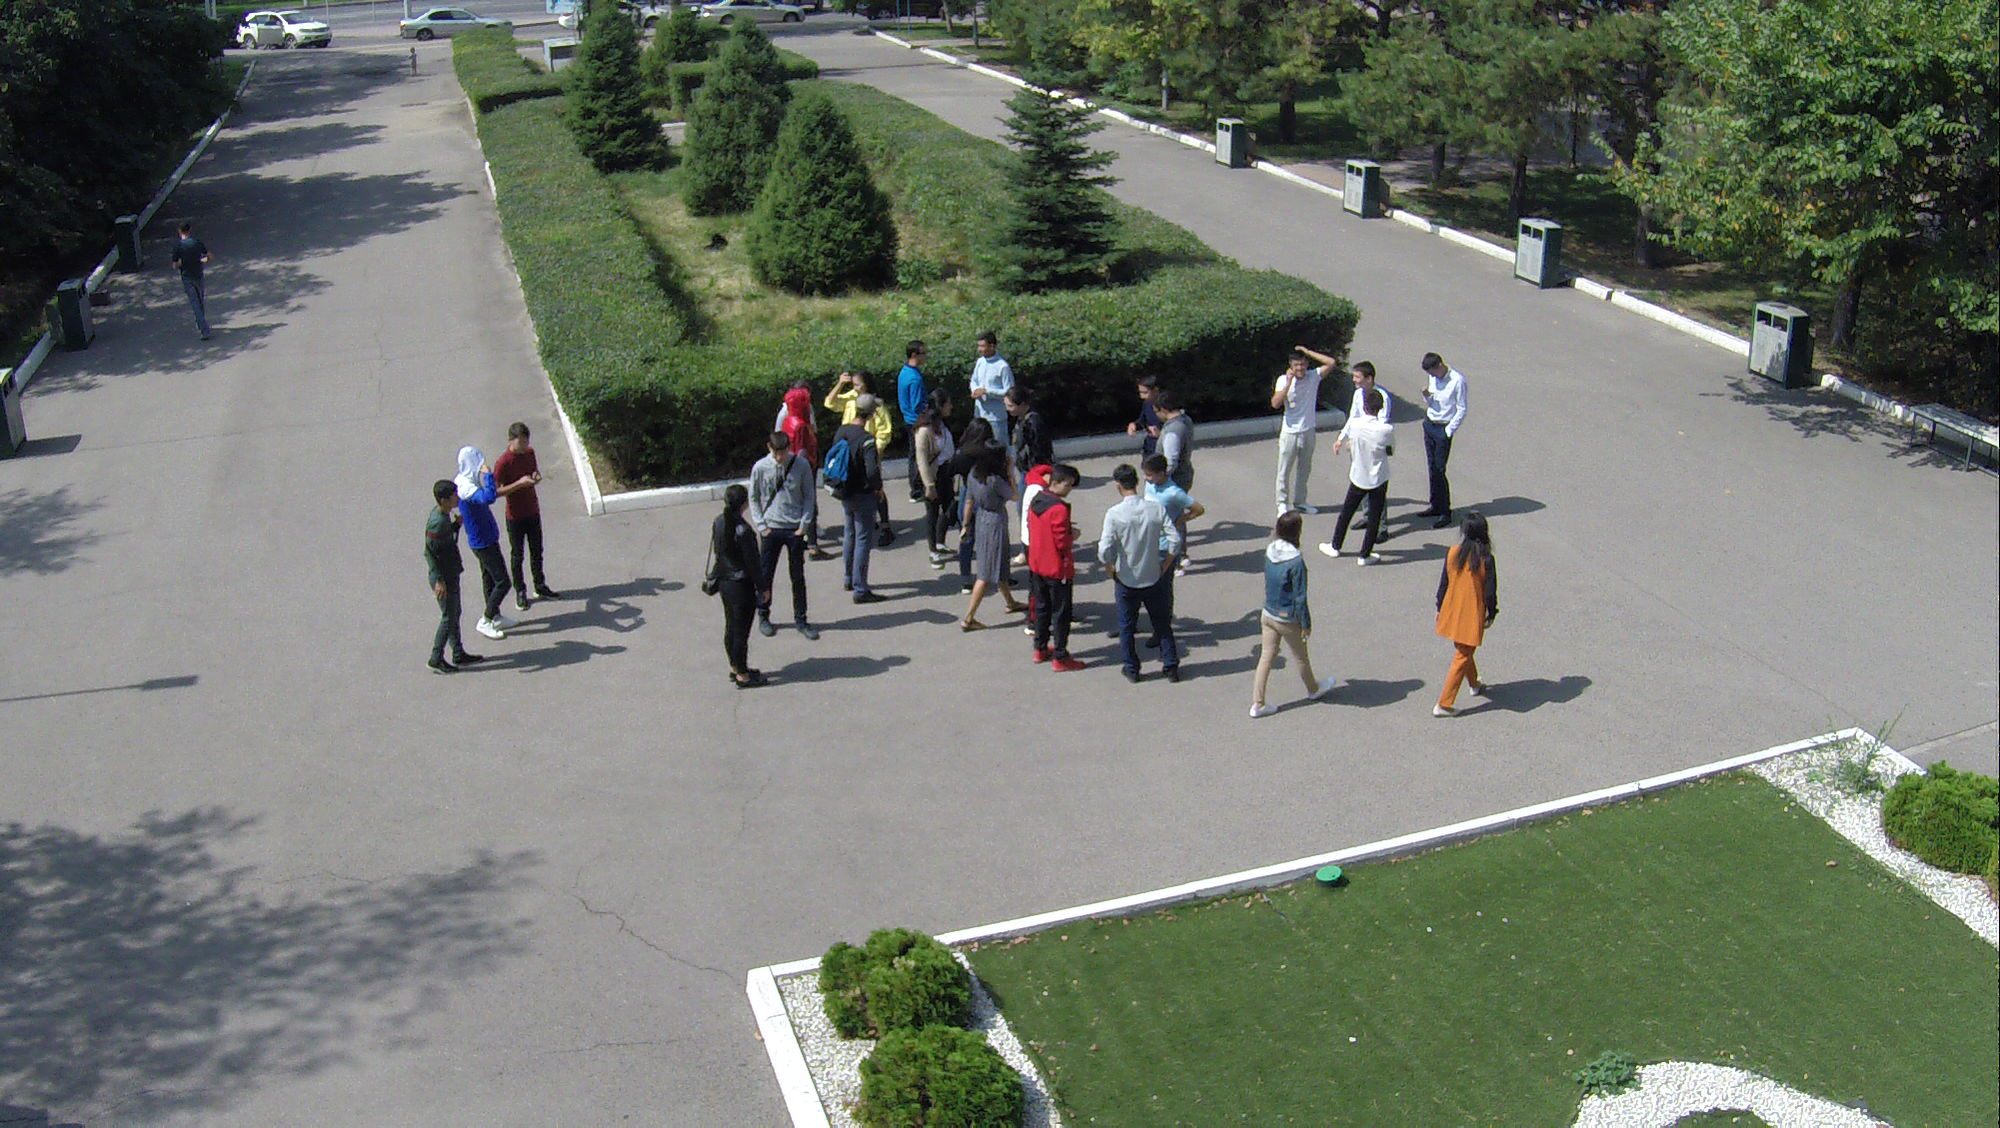person: (1243, 497, 1345, 728), (1087, 466, 1193, 676), (1420, 520, 1514, 728), (1026, 468, 1103, 674), (947, 447, 1030, 635), (710, 493, 776, 697), (414, 483, 482, 678), (762, 445, 830, 641), (1268, 358, 1332, 528), (1410, 353, 1474, 520), (832, 422, 891, 599), (460, 472, 516, 647), (1353, 387, 1403, 580), (507, 426, 549, 614), (966, 328, 1016, 445), (922, 420, 962, 568), (180, 212, 212, 353), (893, 341, 932, 445)
